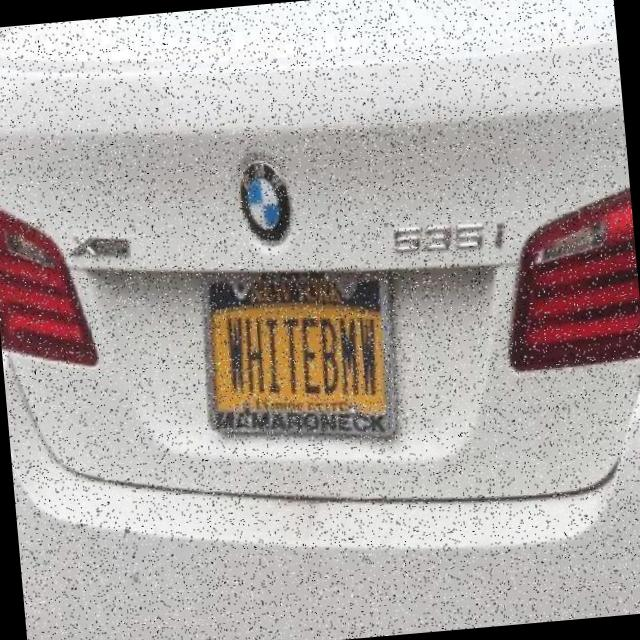LicensePlate: (198, 270, 395, 438)
